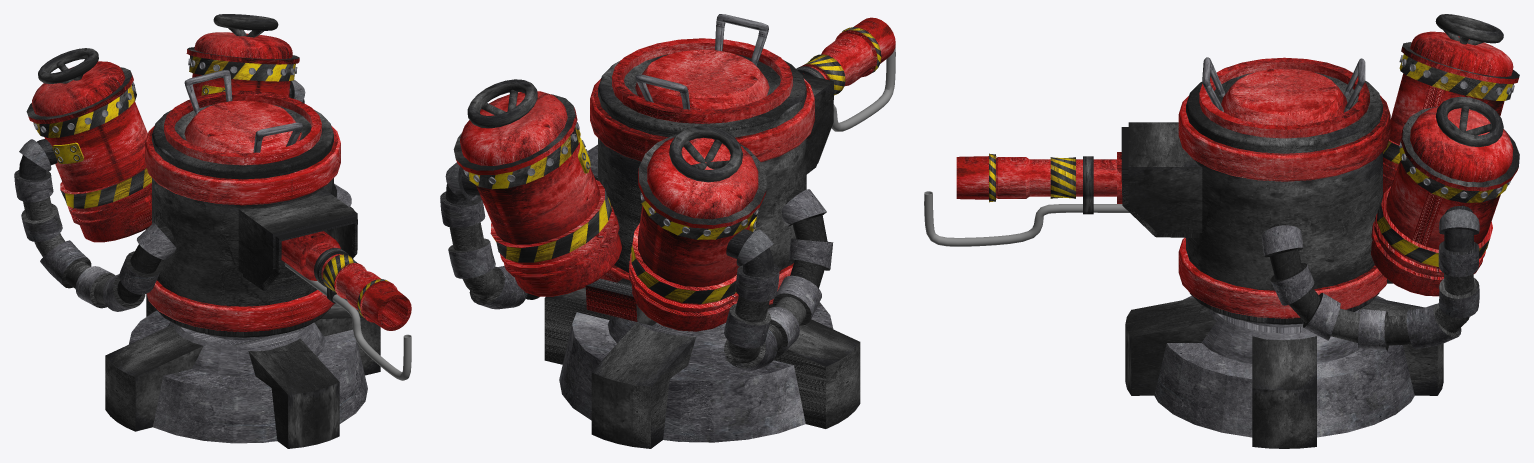
File: flame_thrower.fbx
3 renders of one model, left to right at view 1: azimuth 30°, elevation 25°; view 2: azimuth 150°, elevation 25°; view 3: azimuth 270°, elevation 25°, orthographic. The views are drawn at different scales.
Visible parts, largest first — view 1: cooker, gas_cylinder, base, main_flameThrower, lighter; view 2: gas_cylinder, base, cooker, main_flameThrower, lighter; view 3: cooker, gas_cylinder, base, main_flameThrower, lighter.
Part boxes in pixels (<box>): cooker: <box>145,70,357,337</box>; gas_cylinder: <box>14,14,354,311</box>; base: <box>105,294,380,448</box>; main_flameThrower: <box>281,231,411,330</box>; lighter: <box>284,263,411,380</box>; gas_cylinder: <box>440,79,833,370</box>; base: <box>544,287,860,448</box>; cooker: <box>585,14,833,325</box>; main_flameThrower: <box>796,17,895,95</box>; lighter: <box>831,45,895,131</box>; cooker: <box>1121,57,1392,324</box>; gas_cylinder: <box>1261,14,1519,350</box>; base: <box>1125,295,1443,448</box>; main_flameThrower: <box>956,152,1122,214</box>; lighter: <box>924,191,1129,246</box>.
Size of the model in its own units: 8.19 by 7.99 by 13.42.
